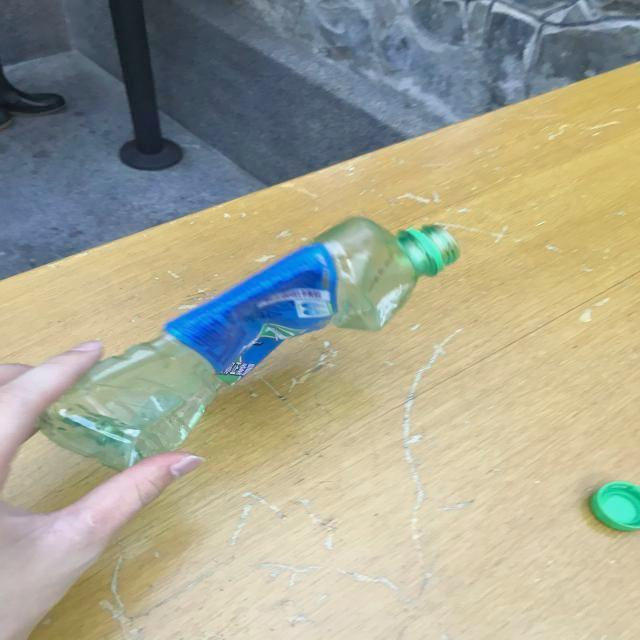bottle: (38, 215, 460, 474), (561, 453, 640, 557)
